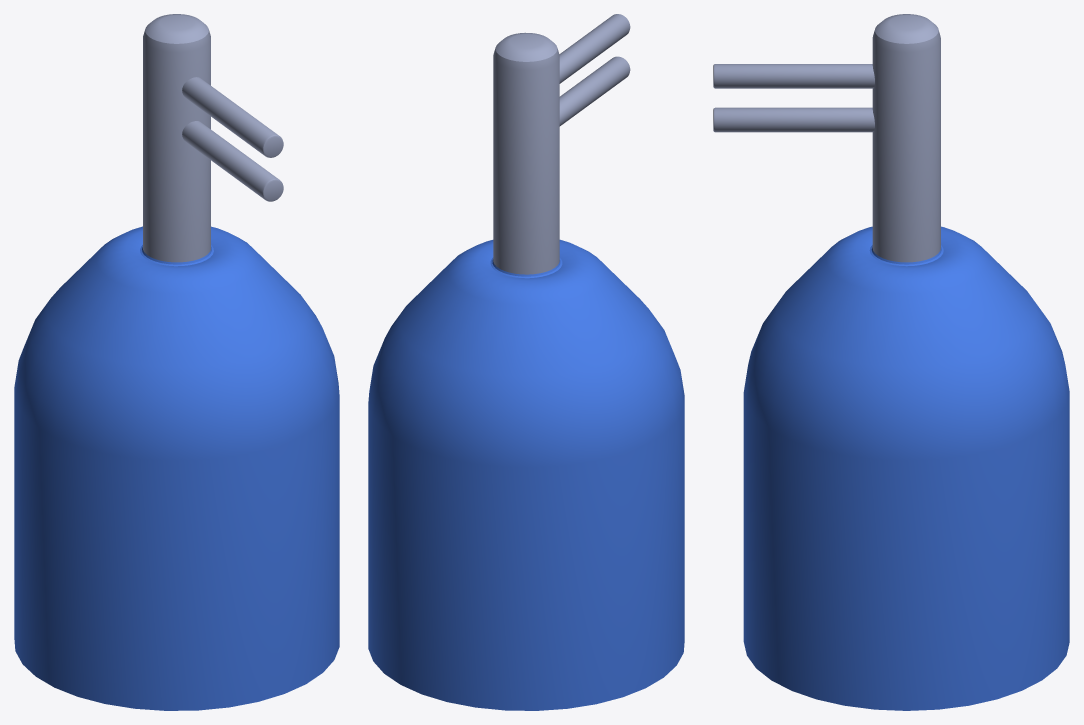
File: test_tower.glb
3 renders of one model, left to right at view 1: azimuth 30°, elevation 25°; view 2: azimuth 150°, elevation 25°; view 3: azimuth 270°, elevation 25°, orthographic. The views are drawn at different scales.
Visible parts, largest first — view 1: TurretBase, TurretTop; view 2: TurretBase, TurretTop; view 3: TurretBase, TurretTop.
Part boxes in pixels (x1,y1,x2,y2): TurretBase: [14, 226, 339, 710]; TurretTop: [143, 14, 283, 262]; TurretBase: [368, 239, 684, 710]; TurretTop: [493, 14, 630, 274]; TurretBase: [743, 226, 1069, 710]; TurretTop: [713, 14, 940, 262].
Size of the model in its own units: 1 by 2.1 by 1.09.
